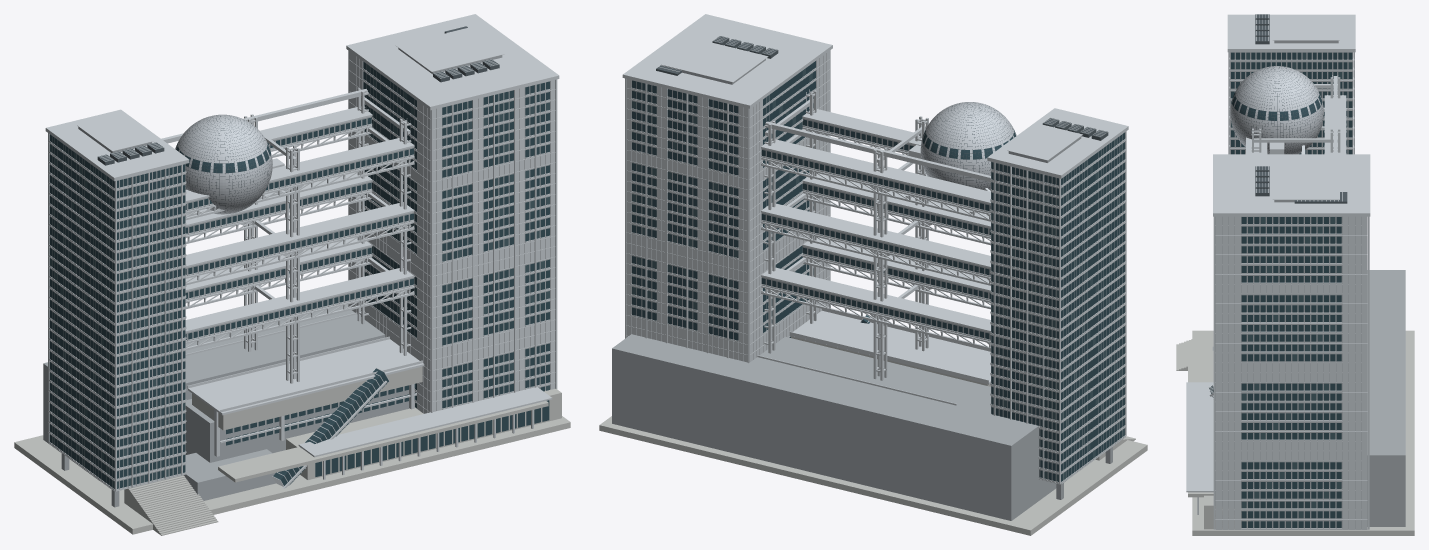
Rendered from fuji-tv.glb.
3 renders of one model, left to right at view 1: azimuth 30°, elevation 25°; view 2: azimuth 150°, elevation 25°; view 3: azimuth 270°, elevation 25°, orthographic. The views are drawn at different scales.
Visible parts, largest first — view 1: Frame - brushed aluminum, Windows - blue smoked reflective glass, Facade - cool gray concrete, Podium - pale stone, Sphere - titanium panels, Windows - alternate blue reflection, Observation sphere - joint backing, Panel joints and rooftop machinery; view 2: Frame - brushed aluminum, Facade - cool gray concrete, Windows - blue smoked reflective glass, Podium - pale stone, Sphere - titanium panels, Windows - alternate blue reflection, Panel joints and rooftop machinery, Observation sphere - joint backing; view 3: Frame - brushed aluminum, Facade - cool gray concrete, Windows - blue smoked reflective glass, Podium - pale stone, Sphere - titanium panels, Windows - alternate blue reflection, Observation sphere - joint backing, Panel joints and rooftop machinery.
Boxes of the visible parts, x1,y1,x2,y2 form: Frame - brushed aluminum: (45,14,559,491); Windows - blue smoked reflective glass: (49,61,549,487); Facade - cool gray concrete: (43,48,550,507); Podium - pale stone: (14,366,570,535); Sphere - titanium panels: (175,114,272,214); Windows - alternate blue reflection: (49,64,549,488); Observation sphere - joint backing: (176,115,272,212); Panel joints and rooftop machinery: (97,26,499,165); Frame - brushed aluminum: (622,14,1128,484); Facade - cool gray concrete: (612,59,1124,520); Windows - blue smoked reflective glass: (632,61,1124,481); Podium - pale stone: (599,336,1147,535); Sphere - titanium panels: (920,102,1016,189); Windows - alternate blue reflection: (632,68,1124,481); Panel joints and rooftop machinery: (656,36,1108,140); Observation sphere - joint backing: (921,102,1015,188); Frame - brushed aluminum: (1186,14,1370,529); Facade - cool gray concrete: (1212,40,1405,528); Windows - blue smoked reflective glass: (1209,52,1352,527); Podium - pale stone: (1176,330,1414,535); Sphere - titanium panels: (1230,66,1323,154); Windows - alternate blue reflection: (1231,52,1352,527); Observation sphere - joint backing: (1231,66,1323,153); Panel joints and rooftop machinery: (1255,14,1347,203).
Size of the model in its own units: 162 by 123 by 81.43.
